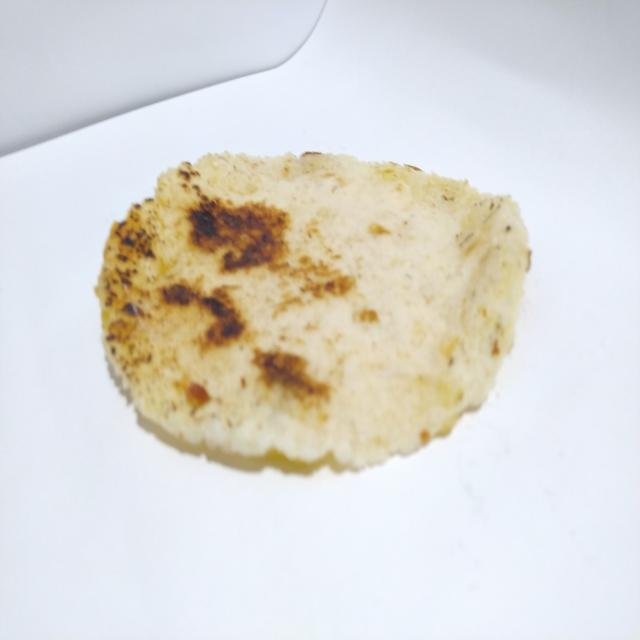Mbeju: (83, 139, 536, 482)
